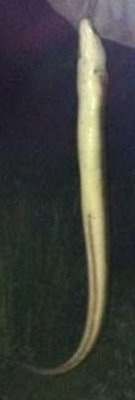Anguilla anguilla: (20, 20, 115, 380)
